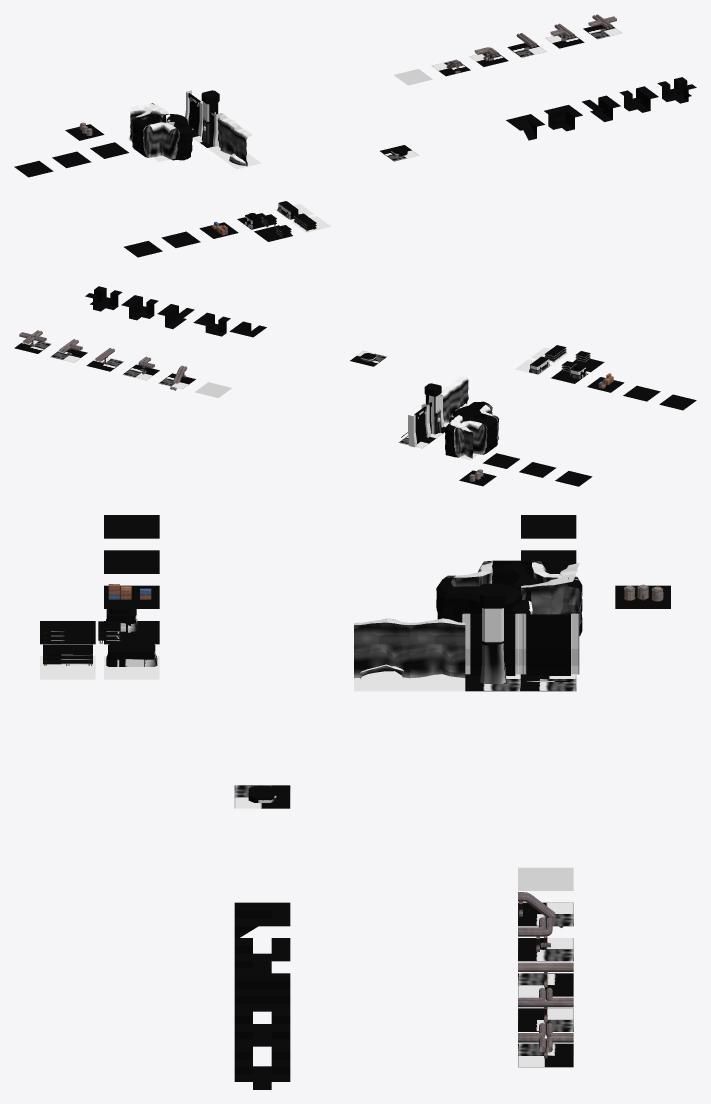
Rendered from Tiles_Industrial.fbx.
3 views of the same model, one above another, from view 1: azimuth 30°, elevation 25°; view 2: azimuth 150°, elevation 25°; view 3: azimuth 270°, elevation 25° (orthographic). The views are drawn at different scales.
Parts seen in each view (by area): view 1: AI_Main7.004, AI_Main7.002, AI_Main7, AI_Main7.003, AI_Trench3, AI_Trench7, AI_Trench15, Industrial_Bridge.005, AI_Main7.001, AI_Trench5, AI_Trench1, Industrial_Bridge.003 (+11 smaller); view 2: AI_Main7.005, AI_Main7.001, AI_Main7.004, AI_Main7.002, AI_Trench7, AI_Trench15, AI_Sib3, Industrial_Bridge.005, AI_Trench3, AI_Trench5, AI_Main7, Industrial_Bridge.003 (+18 smaller); view 3: AI_Main7.002, AI_Main7.001, AI_Main7.003, AI_Main7, AI_Main7.004, AI_Trench5, Industrial_Bridge.005, Industrial_Bridge.003, AI_Trench15, AI_Sib3.003, AI_Sib3.001, AI_Sib3 (+17 smaller).
Boxes of the visible parts, x1,y1,x2,y2 form: AI_Main7.004: (137,114,192,161); AI_Main7.002: (193,90,222,147); AI_Main7: (222,124,260,169); AI_Main7.003: (207,114,237,158); AI_Trench3: (544,105,582,131); AI_Trench7: (619,86,658,112); AI_Trench15: (657,77,696,103); Industrial_Bridge.005: (583,14,621,39); AI_Main7.001: (185,90,202,137); AI_Trench5: (582,95,620,121); AI_Trench1: (506,114,544,140); Industrial_Bridge.003: (545,23,584,48); AI_Main7.005: (445,419,492,457); AI_Main7.001: (398,404,435,448); AI_Main7.004: (449,401,499,449); AI_Main7.002: (421,383,445,438); AI_Trench7: (121,295,158,320); AI_Trench15: (85,286,122,311); AI_Sib3: (551,361,587,383); Industrial_Bridge.005: (14,330,51,353); AI_Trench3: (193,312,230,336); AI_Trench5: (157,304,194,328); AI_Main7: (449,375,468,411); Industrial_Bridge.003: (50,339,87,362); AI_Main7.002: (462,583,523,691); AI_Main7.001: (518,613,579,691); AI_Main7.003: (409,618,465,691); AI_Main7: (354,618,409,691); AI_Main7.004: (436,560,538,622); AI_Trench5: (234,973,290,1011); Industrial_Bridge.005: (518,1023,573,1067); Industrial_Bridge.003: (518,987,573,1031); AI_Trench15: (234,1043,290,1089); AI_Sib3.003: (40,644,95,679); AI_Sib3.001: (104,644,159,679); AI_Sib3: (98,604,159,644).
Bounding box in the file's own units: 470 × 43.94 × 227.
Materials: 10 (10 with a texture image).
